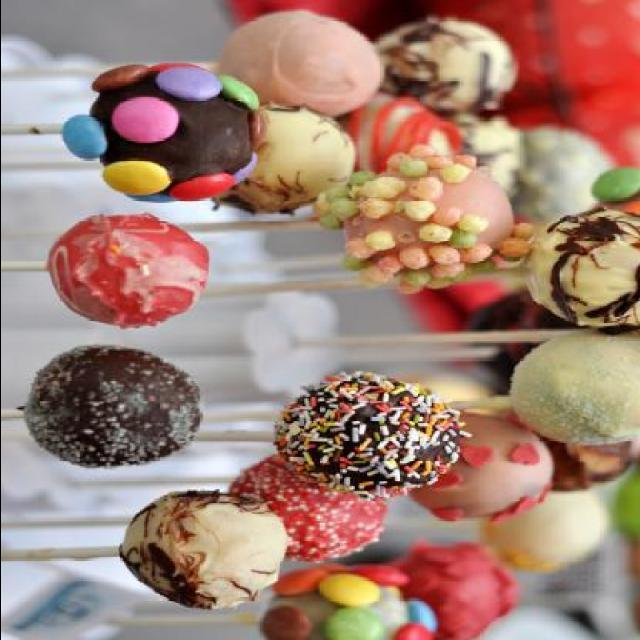Candy: (58, 11, 640, 638), (17, 342, 201, 466), (40, 216, 196, 326)
